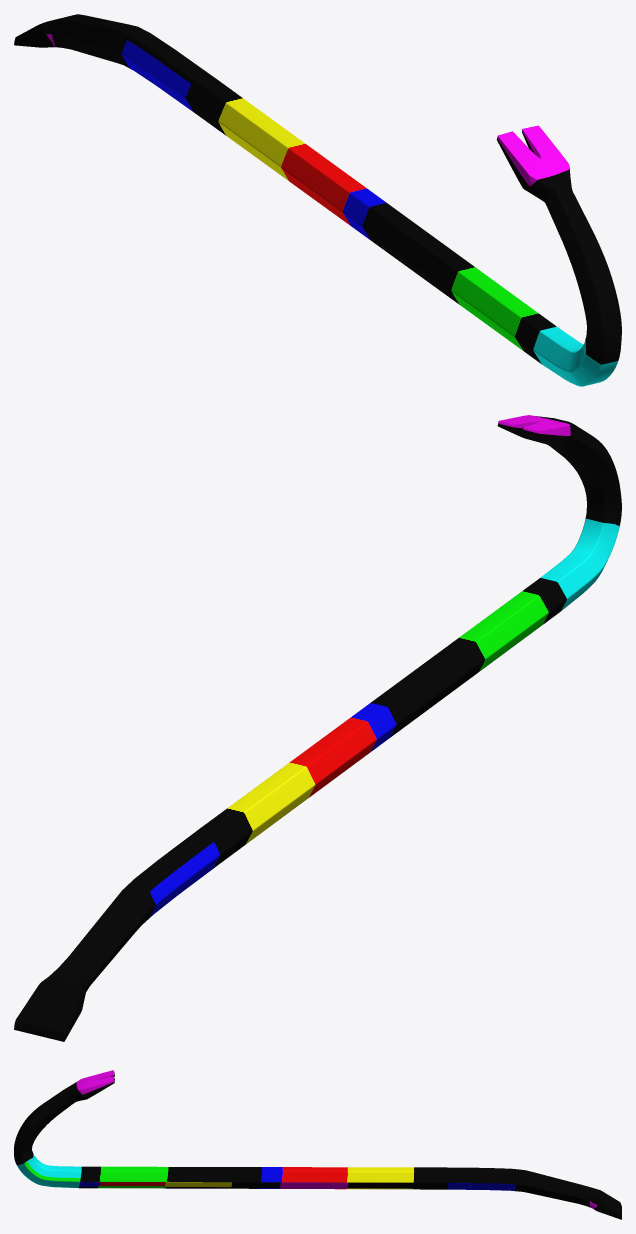
File: crowbar.obj
3 renders of one model, top to bottom at view 1: azimuth 30°, elevation 25°; view 2: azimuth 150°, elevation 25°; view 3: azimuth 270°, elevation 25°, orthographic. The views are drawn at different scales.
Parts seen in each view (by area): view 1: Crowbar; view 2: Crowbar; view 3: Crowbar.
Part boxes in pixels (x1,y1,x2,y2): Crowbar: (14,14,621,386); Crowbar: (14,415,621,1041); Crowbar: (14,1070,621,1219).
Size of the model in its own units: 1.69 by 8.26 by 33.01.
